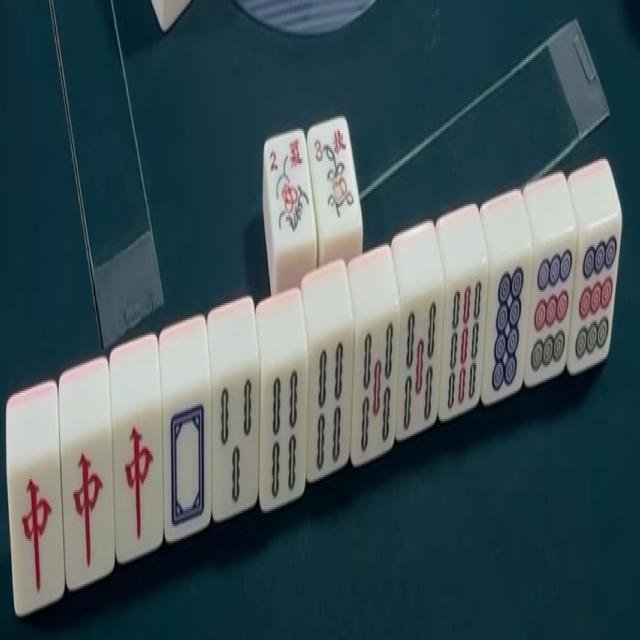bai: (167, 390, 214, 534)
ff2: (266, 134, 314, 240)
ff3: (311, 120, 358, 227)
s3: (213, 373, 256, 513)
s4: (263, 363, 307, 506), (313, 340, 353, 479)
s5: (355, 320, 400, 462), (400, 297, 444, 435)
s9: (444, 279, 490, 420)
t8: (488, 258, 528, 399)
t9: (576, 227, 621, 370), (529, 243, 573, 381)
zhong: (11, 464, 61, 603), (65, 436, 113, 578), (116, 414, 163, 555)
